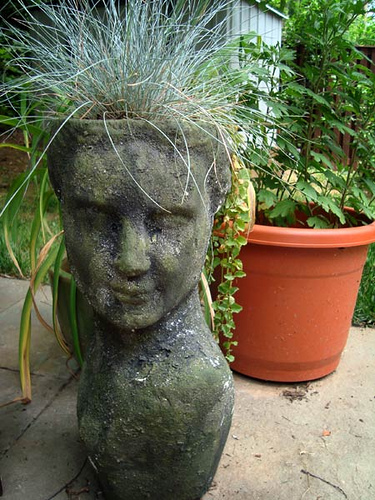tire: (211, 200, 372, 387)
